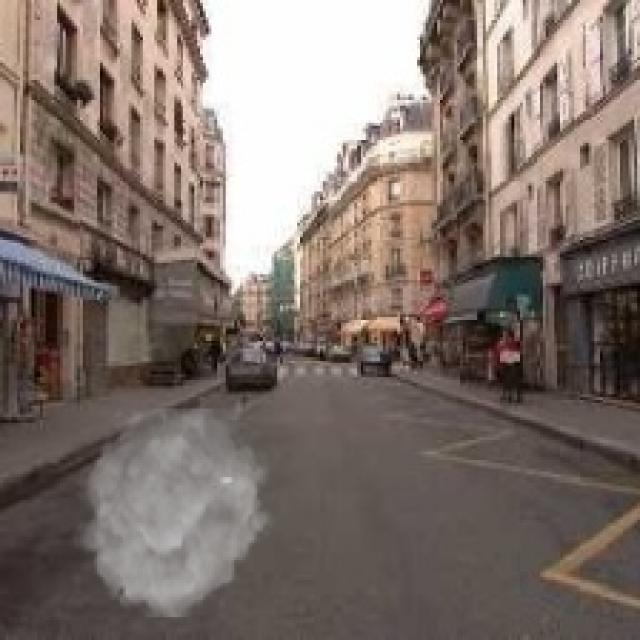Smoke: (71, 408, 278, 618)
